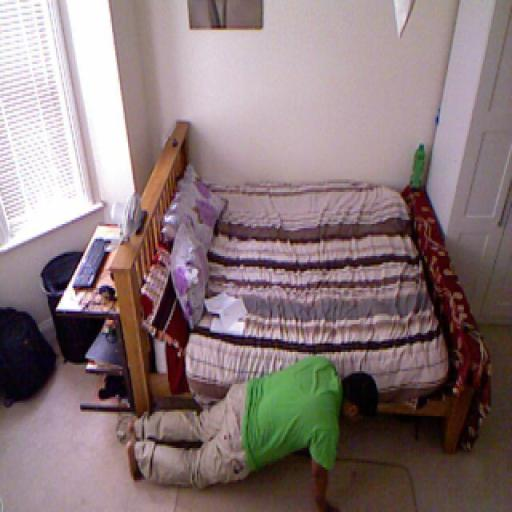Fall: (123, 356, 378, 512)
